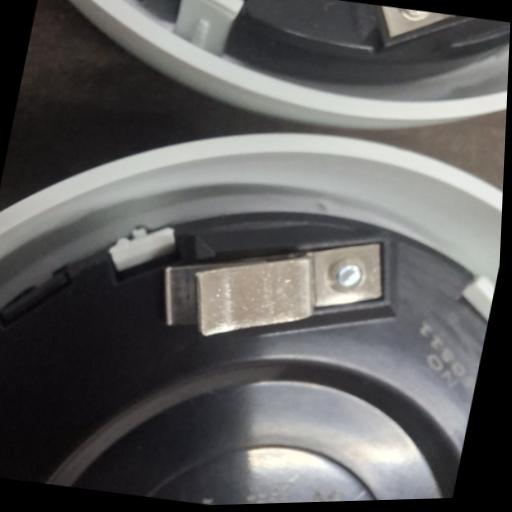yayli: (152, 206, 400, 365)
